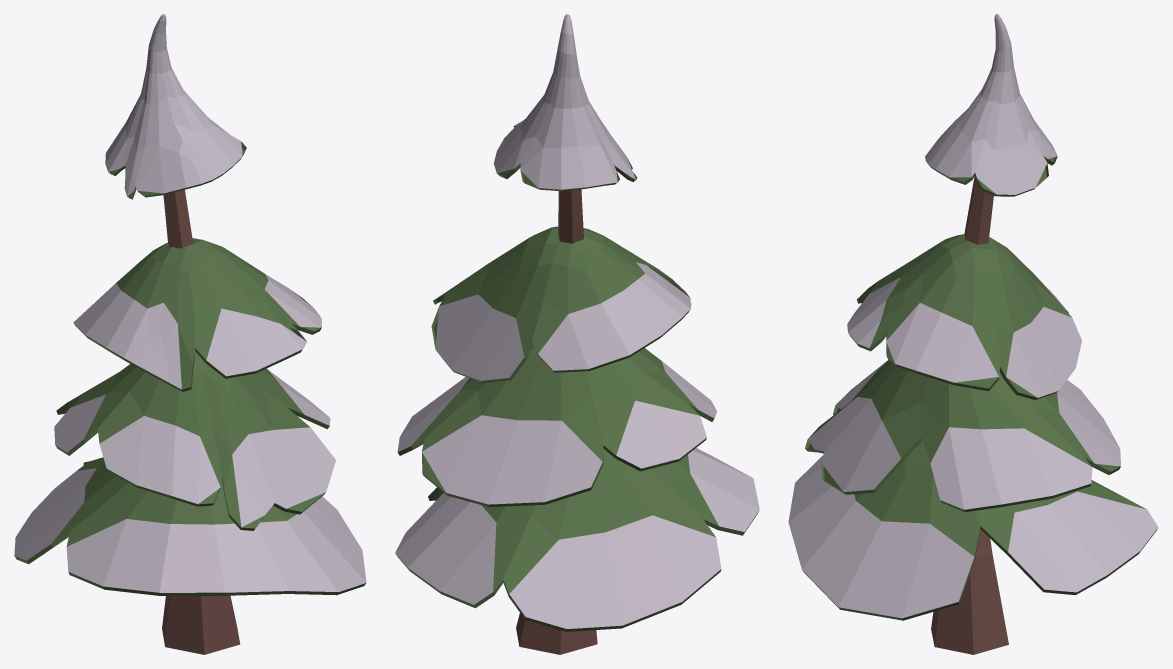
File: pinetree_snow_2.glb
3 views of the same model, side by side, from view 1: azimuth 30°, elevation 25°; view 2: azimuth 150°, elevation 25°; view 3: azimuth 270°, elevation 25° (orthographic). The views are drawn at different scales.
Visible parts, largest first — view 1: PineTree_Snow_2; view 2: PineTree_Snow_2; view 3: PineTree_Snow_2.
Part boxes in pixels (x1,y1,x2,y2): PineTree_Snow_2: [14, 14, 366, 654]; PineTree_Snow_2: [395, 14, 759, 654]; PineTree_Snow_2: [788, 14, 1158, 654].
Bounding box in the file's own units: 4.31 × 8.56 × 4.7.
